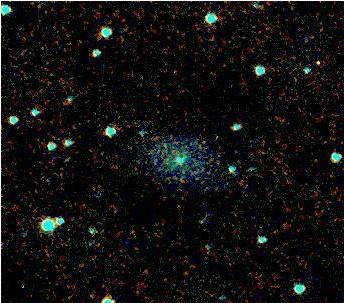star: (301, 45, 331, 75)
